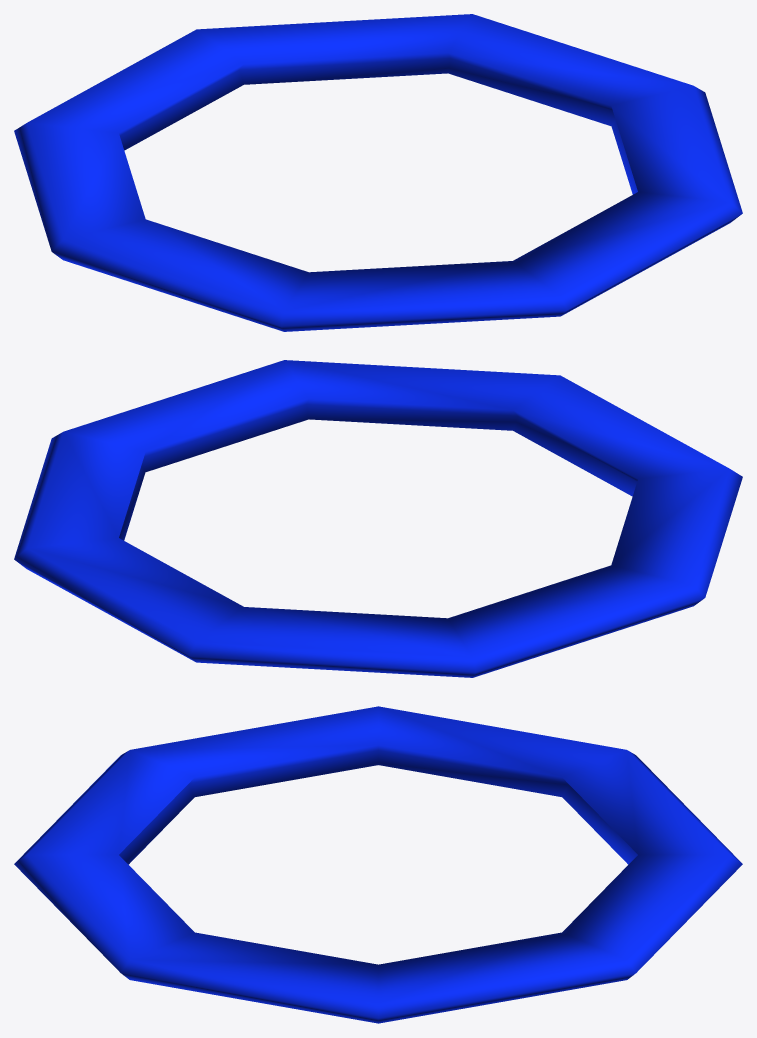
The model's file is basic cursor.glb.
3 renders of one model, top to bottom at view 1: azimuth 30°, elevation 25°; view 2: azimuth 150°, elevation 25°; view 3: azimuth 270°, elevation 25°, orthographic. The views are drawn at different scales.
Visible parts, largest first — view 1: Torus; view 2: Torus; view 3: Torus.
Boxes of the visible parts, bbox=[...] form: Torus: bbox=[14, 14, 742, 331]; Torus: bbox=[14, 360, 742, 677]; Torus: bbox=[14, 706, 742, 1023].
Bounding box in the file's own units: 3.45 × 0.1046 × 3.45.
